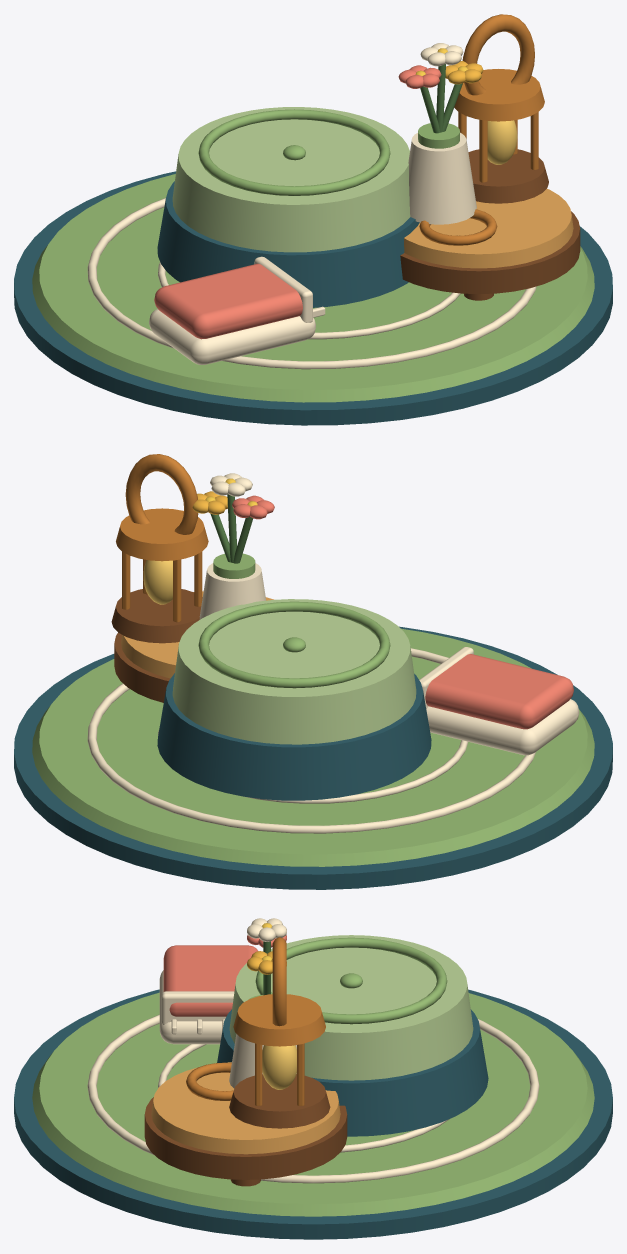
The model's file is meditation-seat.glb.
The picture shows the model from 3 angles, top to bottom: view 1: azimuth 30°, elevation 25°; view 2: azimuth 150°, elevation 25°; view 3: azimuth 270°, elevation 25°; orthographic projection.
Parts seen in each view (by area): view 1: layered-round-rug-finished-edge-and-stitched-rhythm-rings-su (×4), two-level-central-layered-cushion-with-tuft-surface-2, low-honey-oak-side-tray-with-cup-recess-and-three-feet-surfa (×3), two-level-central-layered-cushion-with-tuft-surface-0, neatly-folded-coral-and-cream-blanket-surface-2, ceramic-flower-vase-with-exactly-three-simple-flowers-surfac (×2), two-level-central-layered-cushion-with-tuft-surface-4, neatly-folded-coral-and-cream-blanket-surface-0, enclosed-warm-candle-lantern-with-complete-frame-surface-2, enclosed-warm-candle-lantern-with-complete-frame-surface-0, enclosed-warm-candle-lantern-with-complete-frame-surface-13, enclosed-warm-candle-lantern-with-complete-frame-surface-12 (+2 smaller); view 2: layered-round-rug-finished-edge-and-stitched-rhythm-rings-su (×4), two-level-central-layered-cushion-with-tuft-surface-2, two-level-central-layered-cushion-with-tuft-surface-0, neatly-folded-coral-and-cream-blanket-surface-2, two-level-central-layered-cushion-with-tuft-surface-4, neatly-folded-coral-and-cream-blanket-surface-0, enclosed-warm-candle-lantern-with-complete-frame-surface-2, low-honey-oak-side-tray-with-cup-recess-and-three-feet-surfa (×2), enclosed-warm-candle-lantern-with-complete-frame-surface-0, ceramic-flower-vase-with-exactly-three-simple-flowers-surfac (×2), enclosed-warm-candle-lantern-with-complete-frame-surface-13, enclosed-warm-candle-lantern-with-complete-frame-surface-12 (+1 smaller); view 3: layered-round-rug-finished-edge-and-stitched-rhythm-rings-su (×4), two-level-central-layered-cushion-with-tuft-surface-2, low-honey-oak-side-tray-with-cup-recess-and-three-feet-surfa (×3), two-level-central-layered-cushion-with-tuft-surface-0, neatly-folded-coral-and-cream-blanket-surface-2, enclosed-warm-candle-lantern-with-complete-frame-surface-0, enclosed-warm-candle-lantern-with-complete-frame-surface-2, two-level-central-layered-cushion-with-tuft-surface-4, neatly-folded-coral-and-cream-blanket-surface-0, neatly-folded-coral-and-cream-blanket-surface-4, enclosed-warm-candle-lantern-with-complete-frame-surface-12, enclosed-warm-candle-lantern-with-complete-frame-surface-13 (+3 smaller).
Part boxes in pixels (box(x1,y1,x2,y2)): layered-round-rug-finished-edge-and-stitched-rhythm-rings-su (×4): box(14, 171, 612, 425); two-level-central-layered-cushion-with-tuft-surface-2: box(172, 107, 410, 252); low-honey-oak-side-tray-with-cup-recess-and-three-feet-surfa (×3): box(400, 188, 580, 294); two-level-central-layered-cushion-with-tuft-surface-0: box(157, 181, 419, 307); neatly-folded-coral-and-cream-blanket-surface-2: box(154, 263, 302, 339); ceramic-flower-vase-with-exactly-three-simple-flowers-surfac (×2): box(408, 123, 476, 224); two-level-central-layered-cushion-with-tuft-surface-4: box(198, 109, 390, 195); neatly-folded-coral-and-cream-blanket-surface-0: box(149, 309, 315, 364); enclosed-warm-candle-lantern-with-complete-frame-surface-2: box(454, 69, 544, 121); enclosed-warm-candle-lantern-with-complete-frame-surface-0: box(468, 149, 548, 203); enclosed-warm-candle-lantern-with-complete-frame-surface-13: box(462, 14, 534, 95); enclosed-warm-candle-lantern-with-complete-frame-surface-12: box(487, 120, 517, 164); layered-round-rug-finished-edge-and-stitched-rhythm-rings-su (×4): box(14, 626, 612, 889); two-level-central-layered-cushion-with-tuft-surface-2: box(172, 599, 416, 744); two-level-central-layered-cushion-with-tuft-surface-0: box(157, 673, 431, 800); neatly-folded-coral-and-cream-blanket-surface-2: box(425, 654, 573, 729); two-level-central-layered-cushion-with-tuft-surface-4: box(198, 601, 390, 688); neatly-folded-coral-and-cream-blanket-surface-0: box(426, 699, 579, 755); enclosed-warm-candle-lantern-with-complete-frame-surface-2: box(116, 508, 208, 561); low-honey-oak-side-tray-with-cup-recess-and-three-feet-surfa (×2): box(114, 591, 274, 702); enclosed-warm-candle-lantern-with-complete-frame-surface-0: box(111, 589, 202, 643); ceramic-flower-vase-with-exactly-three-simple-flowers-surfac (×2): box(199, 553, 266, 619); enclosed-warm-candle-lantern-with-complete-frame-surface-13: box(125, 454, 198, 534); enclosed-warm-candle-lantern-with-complete-frame-surface-12: box(143, 560, 172, 604); layered-round-rug-finished-edge-and-stitched-rhythm-rings-su (×4): box(14, 989, 612, 1239); two-level-central-layered-cushion-with-tuft-surface-2: box(229, 935, 473, 1080); low-honey-oak-side-tray-with-cup-recess-and-three-feet-surfa (×3): box(144, 1062, 347, 1179); two-level-central-layered-cushion-with-tuft-surface-0: box(217, 1009, 488, 1136); neatly-folded-coral-and-cream-blanket-surface-2: box(163, 945, 258, 1016); enclosed-warm-candle-lantern-with-complete-frame-surface-0: box(229, 1074, 330, 1128); enclosed-warm-candle-lantern-with-complete-frame-surface-2: box(233, 994, 325, 1046); two-level-central-layered-cushion-with-tuft-surface-4: box(255, 937, 447, 1024); neatly-folded-coral-and-cream-blanket-surface-0: box(159, 970, 222, 1044); neatly-folded-coral-and-cream-blanket-surface-4: box(161, 991, 234, 1024); enclosed-warm-candle-lantern-with-complete-frame-surface-12: box(262, 1045, 296, 1089); enclosed-warm-candle-lantern-with-complete-frame-surface-13: box(272, 937, 286, 1026).
Bounding box in the file's own units: 1.74 × 0.8175 × 1.74.
